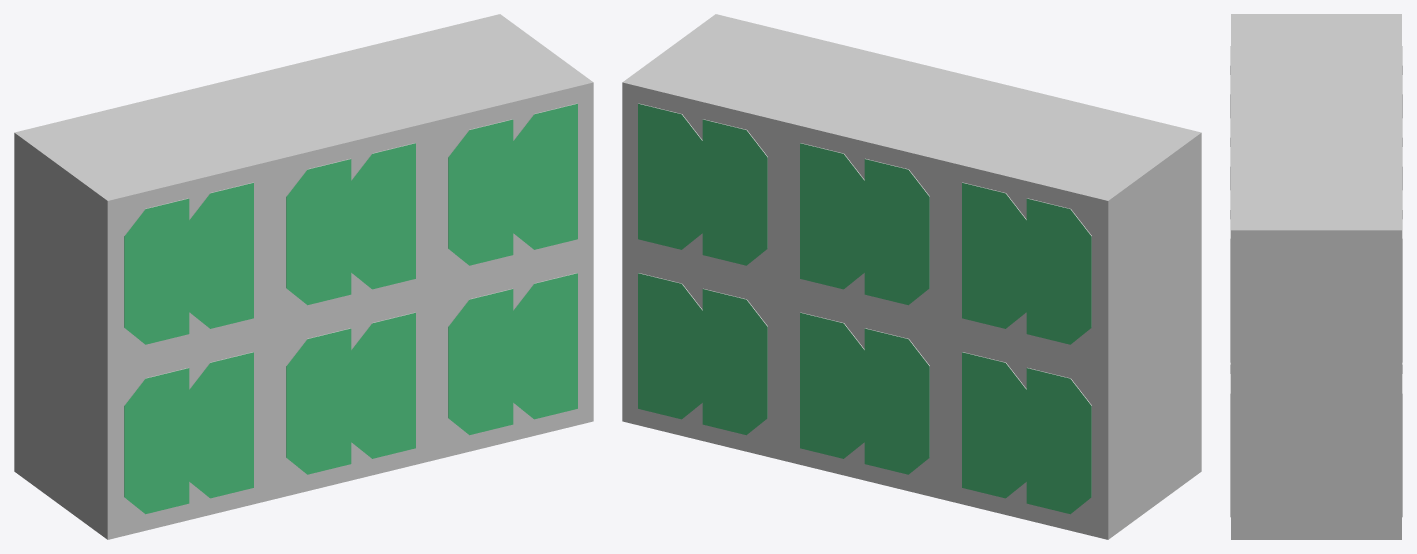
The model's file is 6U_SP2WideSides.dae.
3 renders of one model, left to right at view 1: azimuth 30°, elevation 25°; view 2: azimuth 150°, elevation 25°; view 3: azimuth 270°, elevation 25°, orthographic. The views are drawn at different scales.
Parts seen in each view (by area): view 1: _U_SP2WideSides, Y_Minus_Cells; view 2: _U_SP2WideSides, Y_Plus_Cells; view 3: _U_SP2WideSides.
Part boxes in pixels (x1,y1,x2,y2): _U_SP2WideSides: (14, 14, 593, 539); Y_Minus_Cells: (124, 103, 577, 514); _U_SP2WideSides: (622, 14, 1201, 539); Y_Plus_Cells: (638, 103, 1091, 514); _U_SP2WideSides: (1230, 14, 1402, 539).
Bounding box in the file's own units: 0.3 × 0.101 × 0.2.
